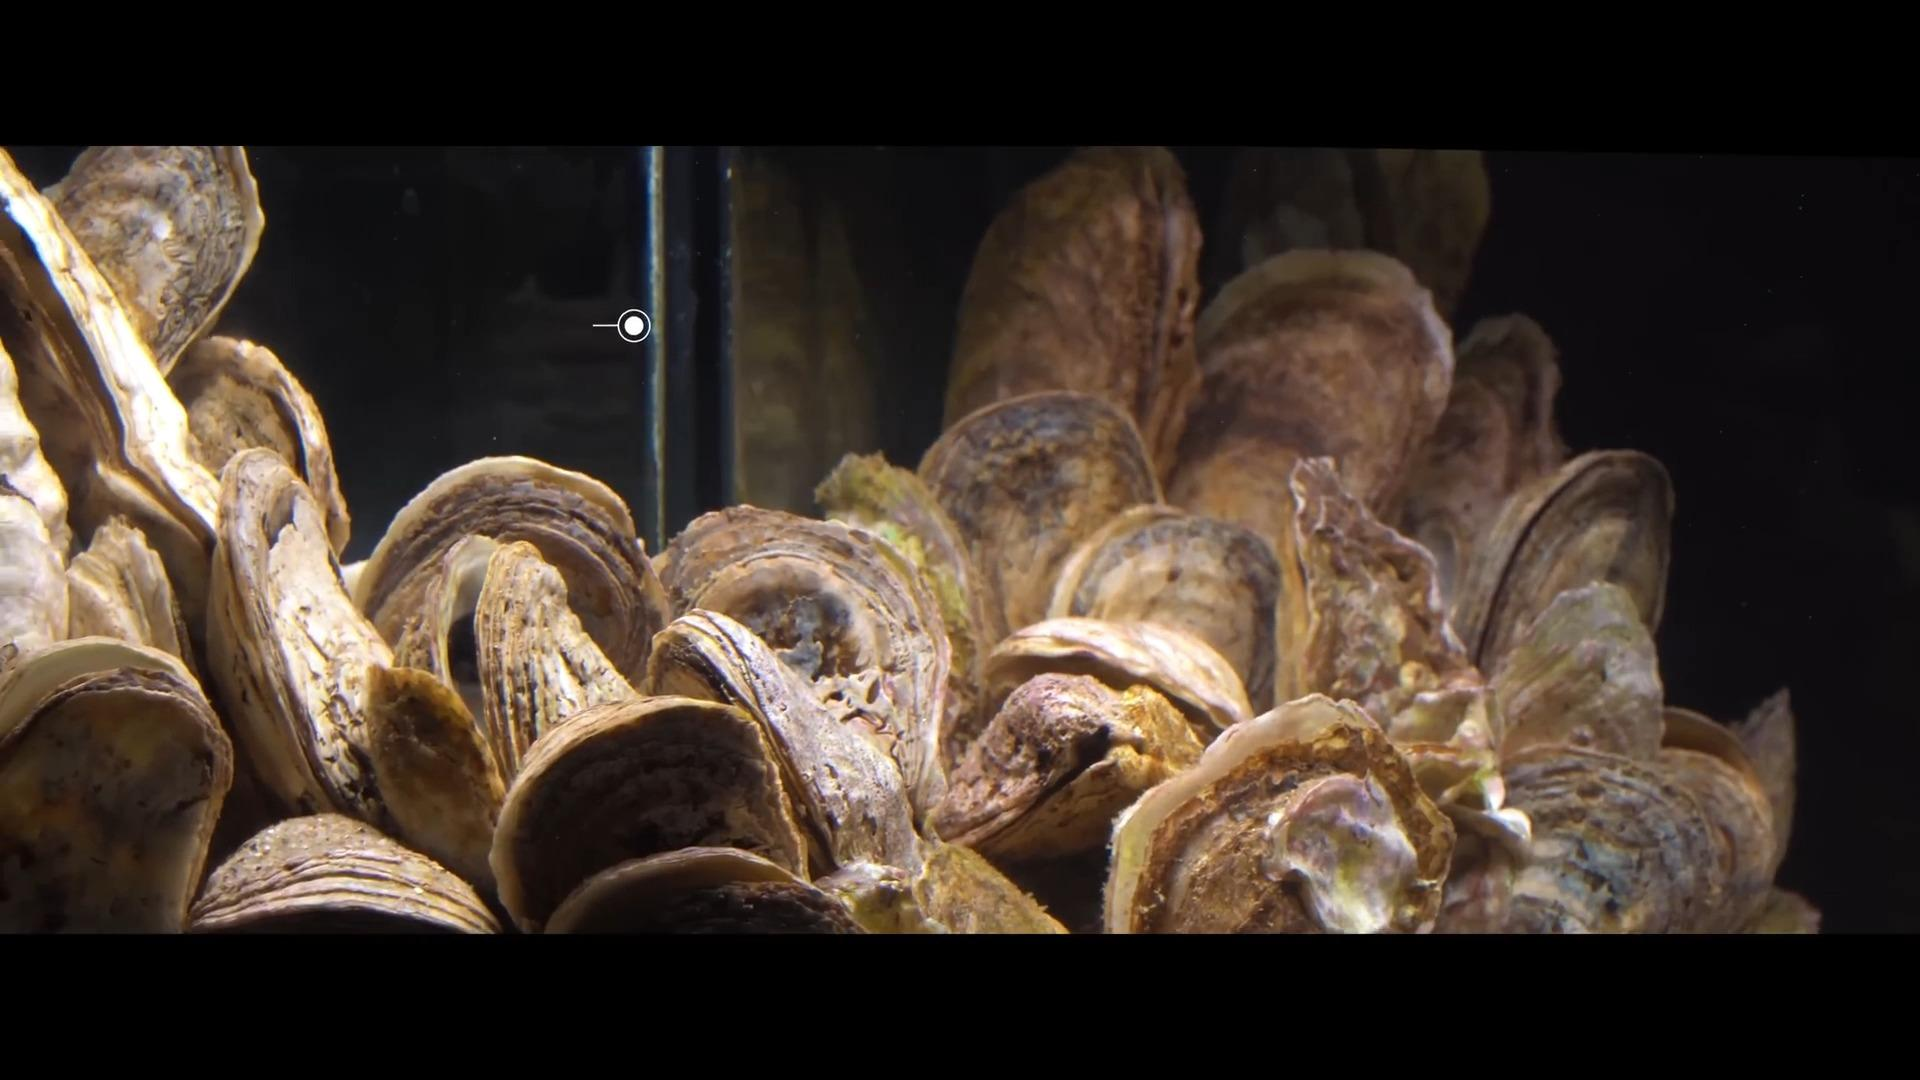Oyster: (1166, 251, 1452, 571), (651, 501, 947, 795), (1096, 691, 1455, 932), (945, 149, 1203, 465), (491, 698, 831, 928), (355, 452, 658, 702), (0, 633, 233, 930), (211, 448, 393, 824), (916, 392, 1156, 636), (1275, 448, 1480, 733), (1395, 315, 1573, 638), (930, 659, 1205, 868), (1465, 740, 1743, 932), (1462, 447, 1672, 691), (44, 146, 256, 373), (1230, 152, 1487, 326), (1058, 509, 1284, 699), (173, 332, 353, 567), (183, 812, 508, 935), (363, 662, 510, 903), (73, 516, 185, 666)
